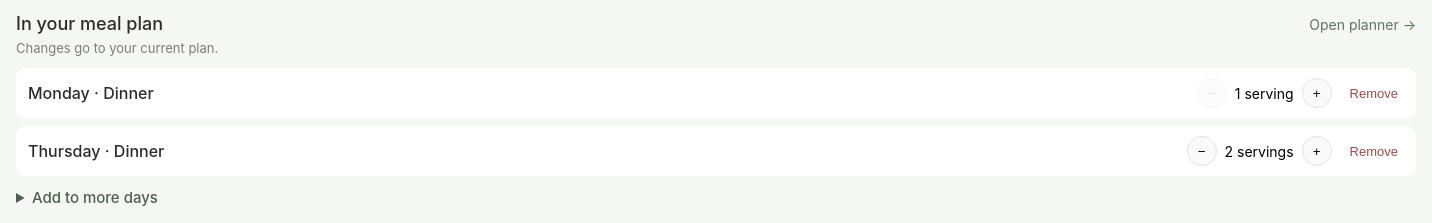
Test: lists planned days; servings and remove change the working plan
The image size is (1432, 223).
Expected: the button named "Fewer servings on Monday Dinner" is disabled, x1=1197 y1=78 x2=1227 y2=108
Click the button named "More servings on Monday Dinner" at (1317, 93), box x1=1302 y1=78 x2=1332 y2=108
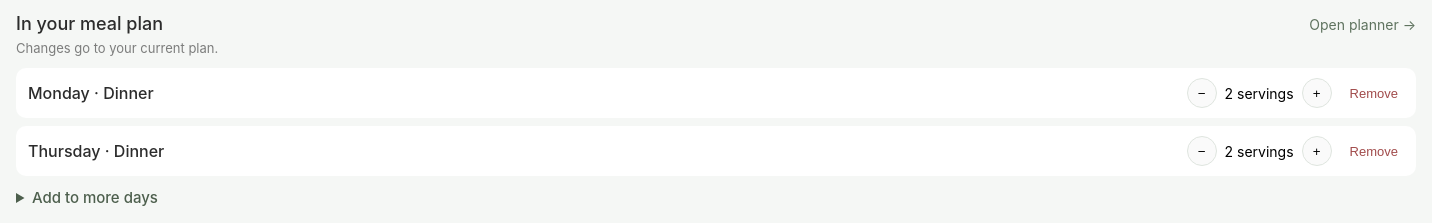
Click the button with aria-label "Remove from Thursday Dinner" at (1374, 151), box x1=1344 y1=142 x2=1404 y2=160
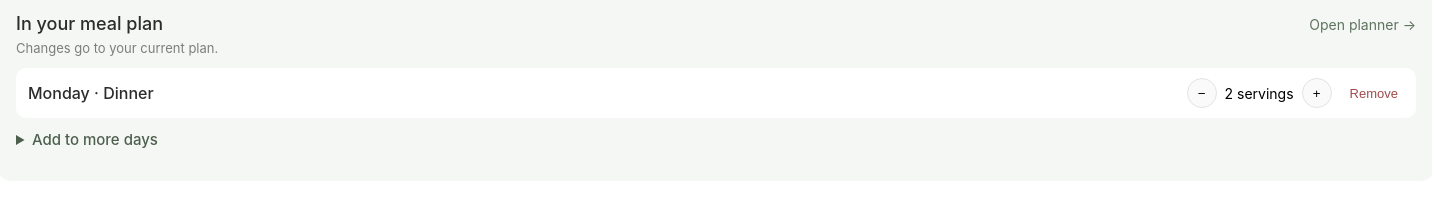
Expected: the text "Thursday · Dinner" is gone
